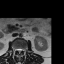CCS_normal: (18, 47, 20, 55)
LFS_normal: (22, 47, 24, 53)
LLS_normal: (20, 47, 22, 53)
RFS_normal: (14, 47, 16, 52)
RLS_normal: (16, 47, 18, 52)
